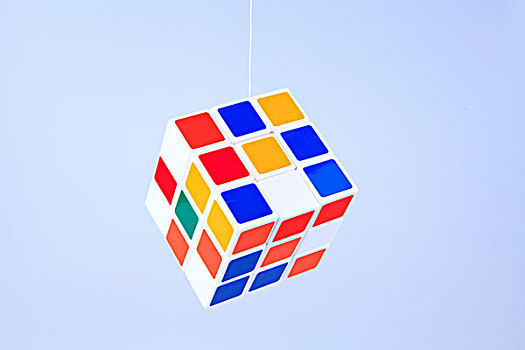cube: (143, 87, 356, 310)
